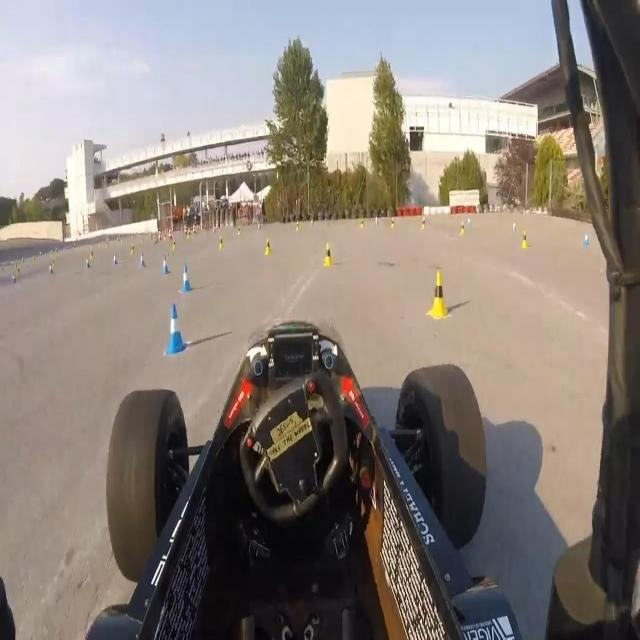blue_cone: (164, 301, 187, 356), (182, 263, 192, 294), (162, 253, 170, 276), (582, 228, 589, 247), (140, 250, 146, 269), (85, 255, 91, 272), (48, 260, 54, 276), (512, 218, 517, 235), (114, 250, 118, 264), (13, 271, 16, 284)
yellow_cone: (427, 268, 452, 320), (323, 241, 334, 267), (520, 228, 528, 250), (265, 235, 271, 255), (218, 234, 224, 250), (421, 212, 426, 230), (390, 214, 395, 230), (90, 244, 94, 262), (460, 221, 465, 235), (172, 237, 176, 252), (360, 215, 364, 229), (237, 223, 241, 237), (130, 243, 134, 256), (296, 220, 300, 232)
